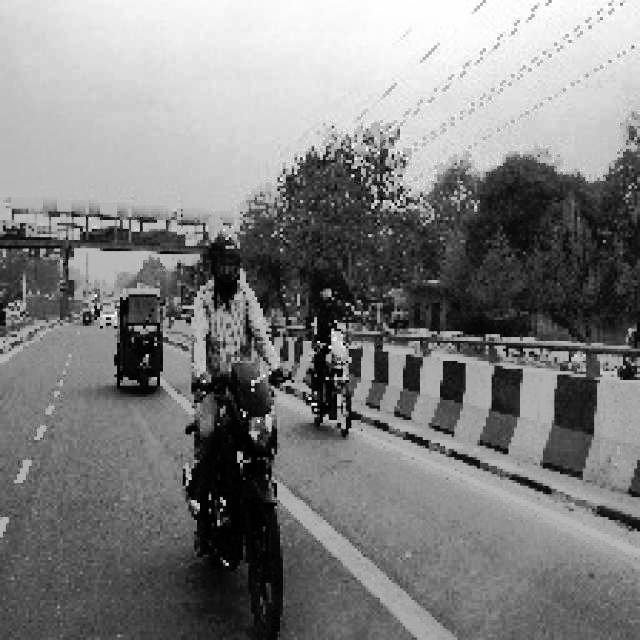Bike: (186, 349, 296, 633), (301, 310, 360, 441)
